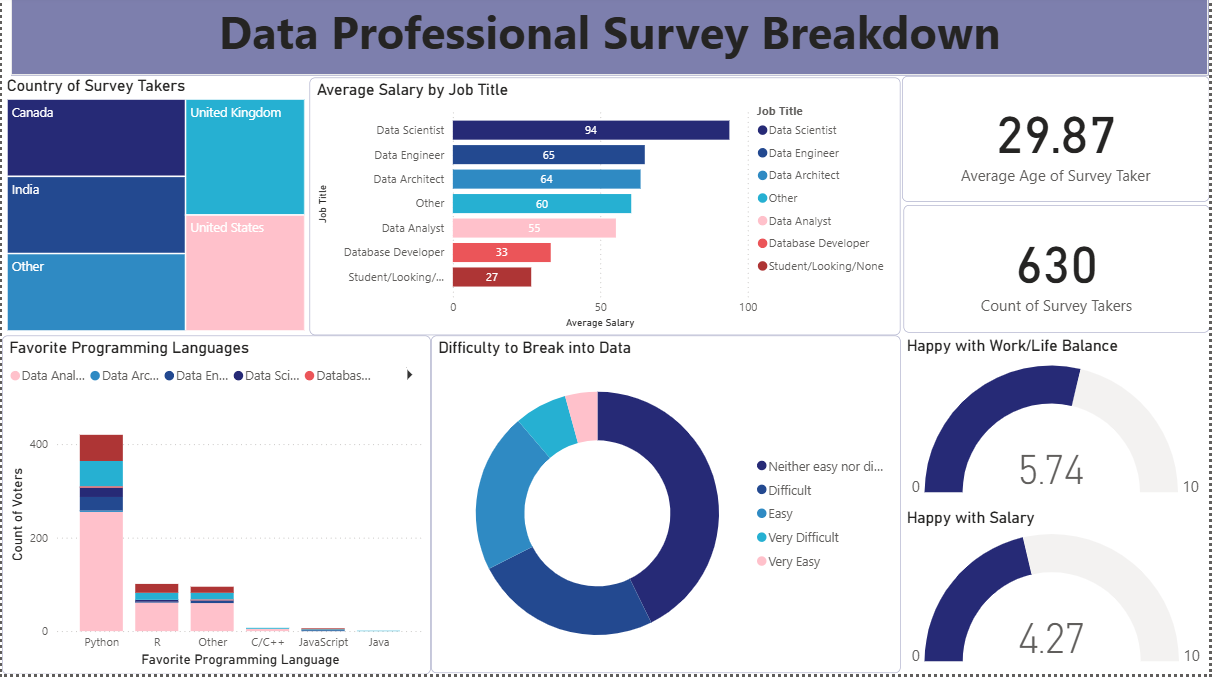

This screenshot's page, from the dashboard's own definition file:
{"tool":"powerbi","page":{"name":"Page 1","canvas":[1280,720],"ordinal":0},"visuals":[{"type":"textbox","box":[9.4,0,1269.9,85],"z":0},{"type":"card","fields":{"Values":["CountNonNull(Data Professional Survey.Unique ID)"]},"box":[956,222.7,324.5,135.2],"z":1000},{"type":"card","fields":{"Values":["Avg(Data Professional Survey.Q10 - Current Age)"]},"box":[954.4,85.9,326.1,133.6],"z":2000},{"type":"barChart","title":"Average Salary by Job Title","fields":{"Category":["Data Professional Survey.Q1 - Which Title Best Fits your Current Role?.1"],"Y":["Avg(Data Professional Survey.Average Salary)"],"Series":["Data Professional Survey.Q1 - Which Title Best Fits your Current Role?.1"]},"box":[326.1,87.5,626.7,273.6],"z":3000},{"type":"columnChart","title":"Favorite Programming Languages","fields":{"Category":["Data Professional Survey.Q5 - Favorite Programming Language.1"],"Y":["CountNonNull(Data Professional Survey.Unique ID)"],"Series":["Data Professional Survey.Q1 - Which Title Best Fits your Current Role?.1"]},"box":[0,361.1,454.9,359.5],"z":4000},{"type":"treemap","title":"Country of Survey Takers","fields":{"Group":["Data Professional Survey.Q11 - Which Country do you live in?.1"],"Values":["Count(Data Professional Survey.Q11 - Which Country do you live in?.1)"]},"box":[0,85.8,325.5,274.8],"z":5000},{"type":"gauge","title":"Happy with Work/Life Balance","fields":{"Y":["Avg(Data Professional Survey.Q6 - How Happy are you in your Current Position with the following? (Work/Life Balance))"],"MinValue":["Min(Data Professional Survey.Q6 - How Happy are you in your Current Position with the following? (Work/Life Balance))"],"MaxValue":["Max(Data Professional Survey.Q6 - How Happy are you in your Current Position with the following? (Work/Life Balance))1"]},"box":[954.4,361.1,324.5,182.9],"z":6000},{"type":"gauge","title":"Happy with Salary","fields":{"Y":["Avg(Data Professional Survey.Q6 - How Happy are you in your Current Position with the following? (Salary))"],"MinValue":["Min(Data Professional Survey.Q6 - How Happy are you in your Current Position with the following? (Salary))"],"MaxValue":["Max(Data Professional Survey.Q6 - How Happy are you in your Current Position with the following? (Salary))1"]},"box":[953.9,544.3,325.5,175],"z":7000},{"type":"donutChart","title":"Difficulty to Break into Data","fields":{"Category":["Data Professional Survey.Q7 - How difficult was it for you to break into Data?"],"Y":["CountNonNull(Data Professional Survey.Q7 - How difficult was it for you to break into Data?)"]},"box":[454.9,361.1,497.9,357.9],"z":8000}]}

Visuals, with their boxes in screenshot pixels (x1, y1, x2, y2), scaled from the page's 1280x720 canvas onto the 1212x677 screenshot:
textbox: box(9, 0, 1211, 80)
card - CountNonNull(Data Professional Survey.Unique ID): box(905, 209, 1211, 337)
card - Avg(Data Professional Survey.Q10 - Current Age): box(904, 81, 1211, 206)
"Average Salary by Job Title" barChart: box(309, 82, 902, 340)
"Favorite Programming Languages" columnChart: box(0, 340, 431, 676)
"Country of Survey Takers" treemap: box(0, 81, 308, 339)
"Happy with Work/Life Balance" gauge: box(904, 340, 1211, 512)
"Happy with Salary" gauge: box(903, 512, 1211, 676)
"Difficulty to Break into Data" donutChart: box(431, 340, 902, 676)
